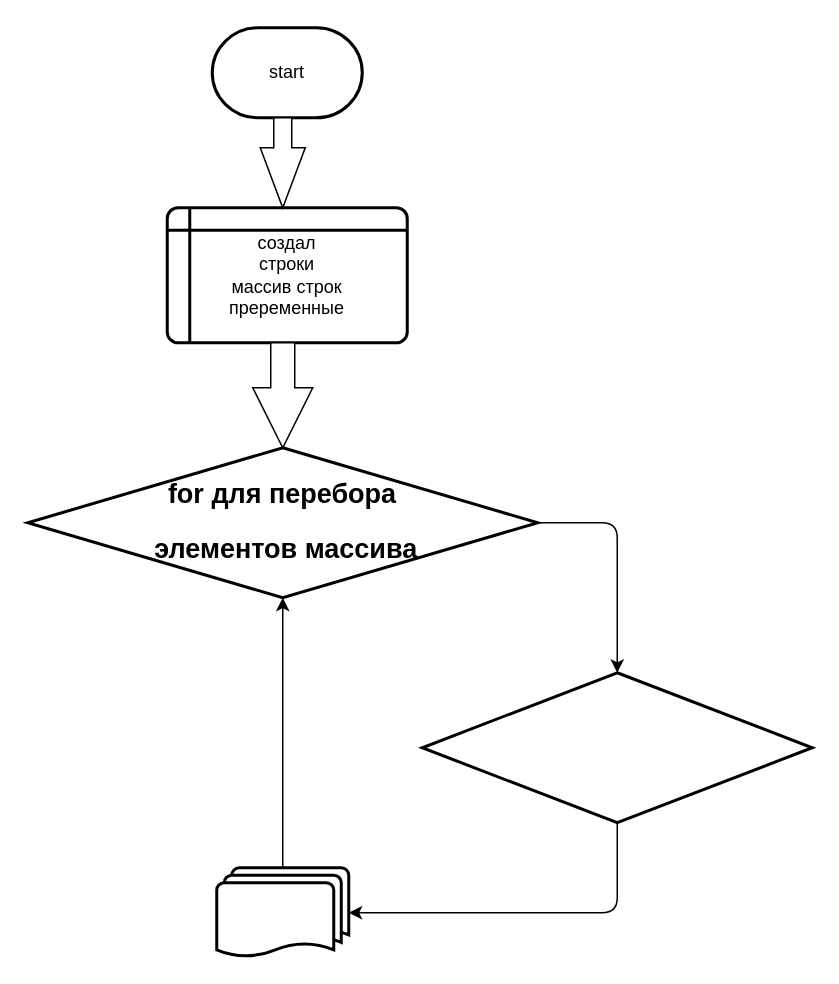
Some shapes in this 839 by 984 pixel diagram are drawn without their labels. Here are the shapes that lost their labels. From the top down, the centre of each, then its label:
(x=616, y=747): forl заталкивает символы по одному в строку массива
(x=282, y=912): вывод в консоль
